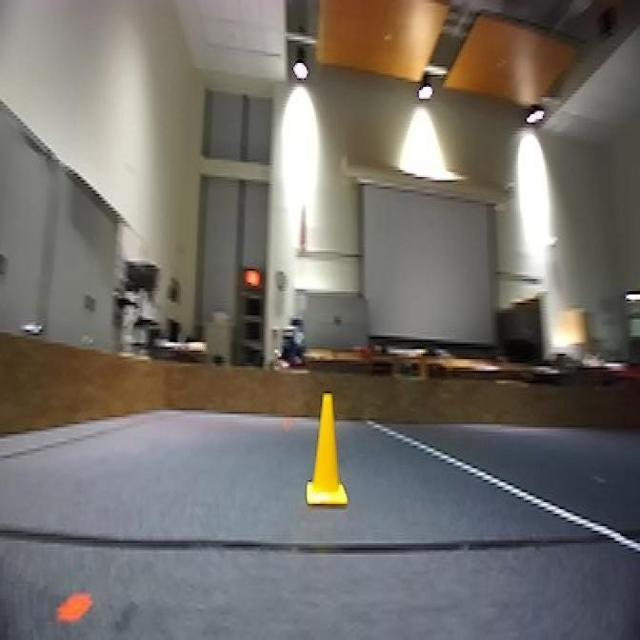frc_cone: (306, 405, 353, 518)
